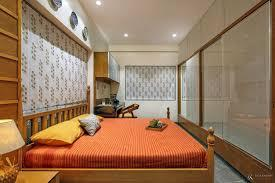bed: (16, 85, 218, 178)
chair: (119, 101, 141, 118)
light: (0, 118, 27, 183), (120, 32, 132, 39), (93, 1, 104, 8), (172, 31, 176, 39)
table: (0, 169, 58, 183), (94, 99, 123, 117)
